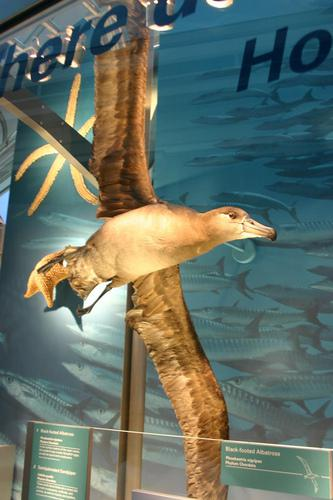001.Black_footed_Albatross: (32, 5, 279, 500)
